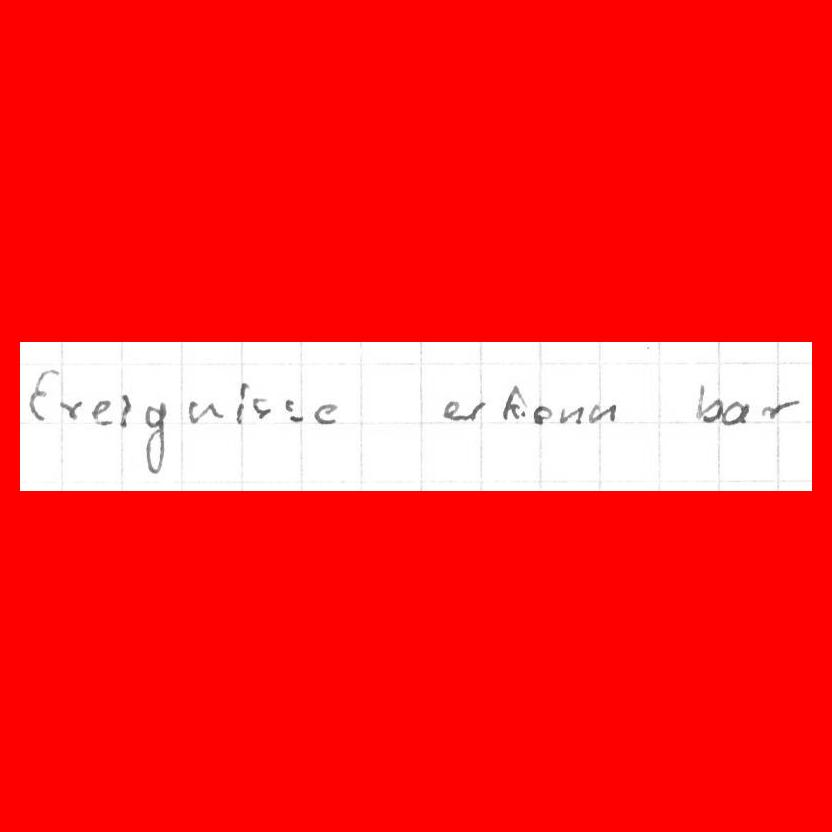Char: (141, 400, 169, 477), (26, 366, 59, 424), (694, 381, 723, 423), (499, 382, 527, 422), (187, 397, 225, 425), (759, 396, 802, 420), (721, 399, 751, 425), (90, 398, 114, 427), (587, 401, 617, 424), (234, 381, 249, 426), (312, 401, 339, 426), (557, 402, 584, 425), (118, 392, 134, 430), (58, 398, 83, 422), (251, 394, 272, 422), (282, 398, 303, 423), (463, 399, 485, 422), (440, 399, 462, 421), (532, 403, 553, 424)
